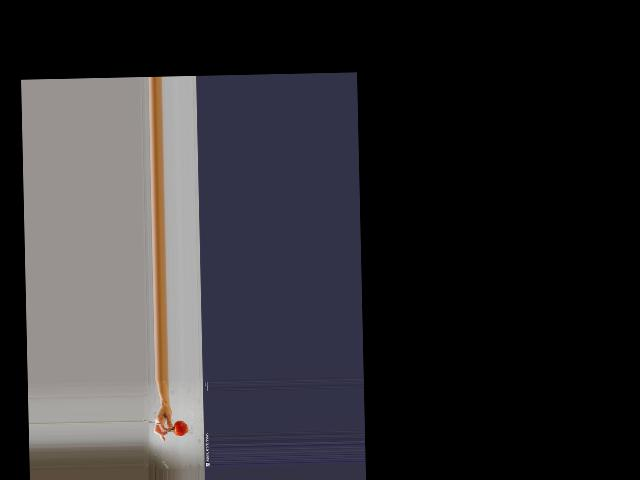tomato: (173, 419, 188, 435)
